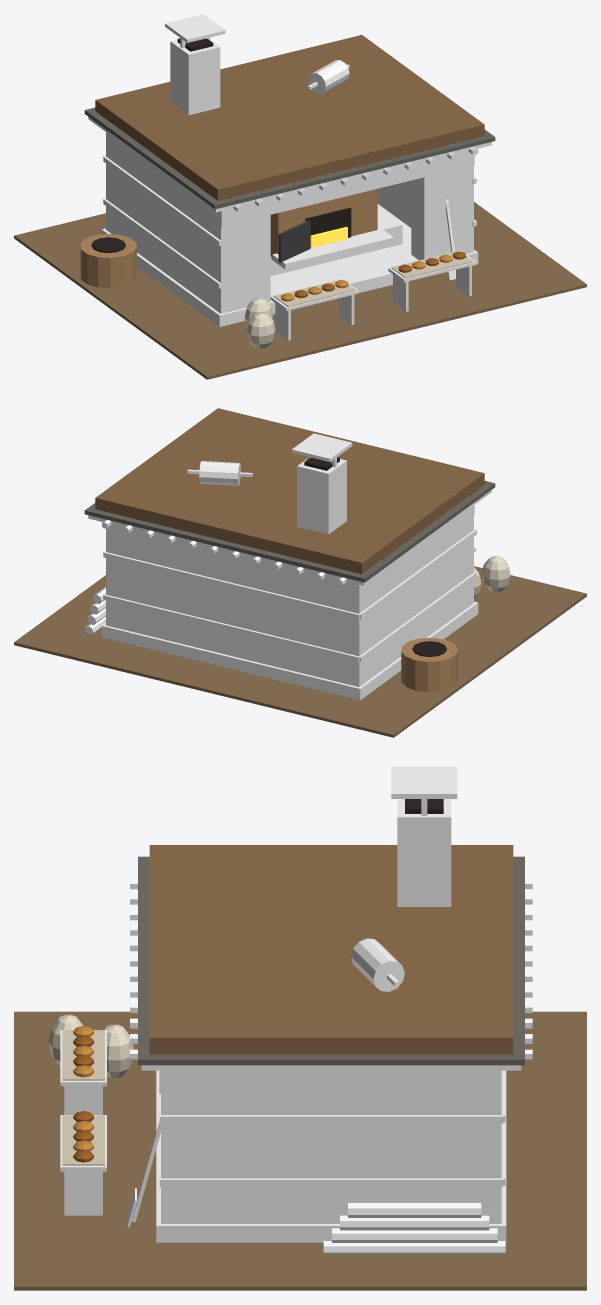
File: firin.glb
3 views of the same model, one above another, from view 1: azimuth 30°, elevation 25°; view 2: azimuth 150°, elevation 25°; view 3: azimuth 270°, elevation 25° (orthographic). The views are drawn at different scales.
Parts seen in each view (by area): view 1: AgizIs; view 2: AgizIs; view 3: AgizIs.
Boxes of the visible parts, left/top/right/bottom form: AgizIs: left=14, top=14, right=586, bottom=379; AgizIs: left=14, top=408, right=586, bottom=737; AgizIs: left=14, top=766, right=586, bottom=1290.
Bounding box in the file's own units: 1 × 0.5613 × 0.881.
